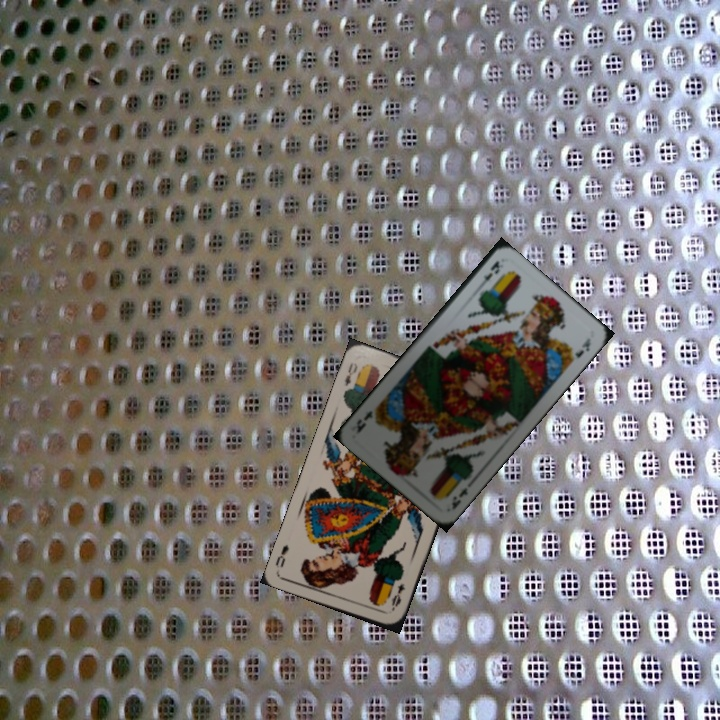EK: (474, 256, 506, 291), (447, 483, 470, 512)
EO: (387, 579, 408, 614), (341, 359, 360, 389)
